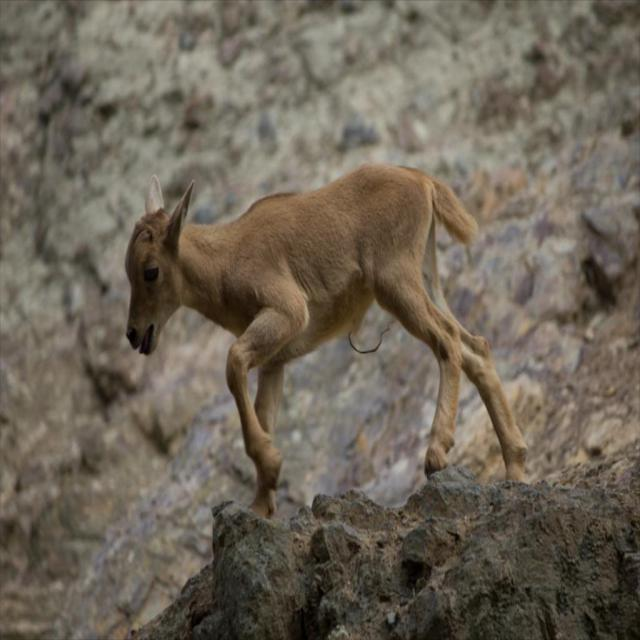Goat: (125, 174, 532, 524)
